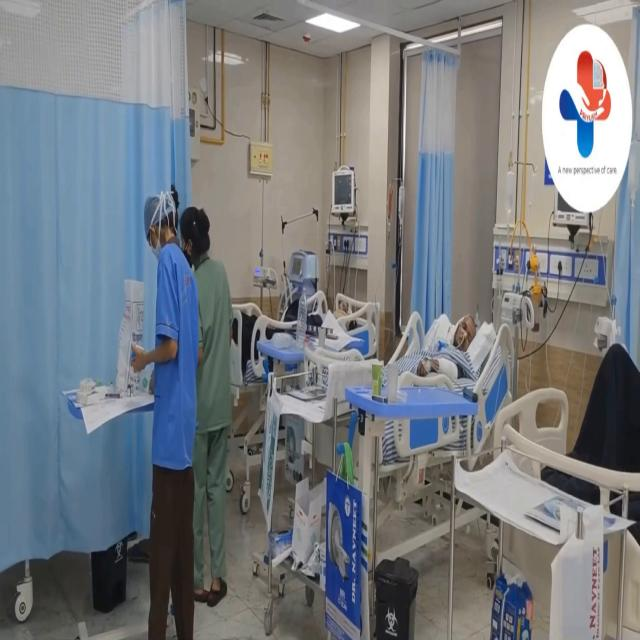Movement-NO: (422, 295, 491, 413)
